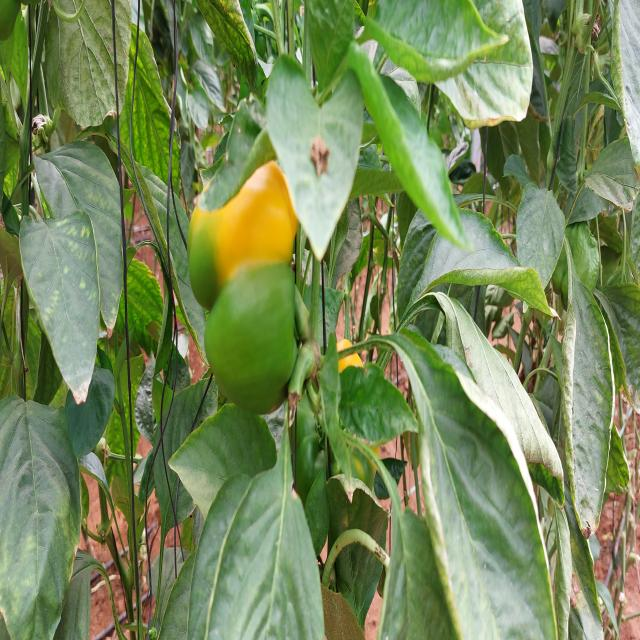GreenishYellow--Can-be-Harvested: (180, 116, 314, 434), (277, 355, 390, 580)
